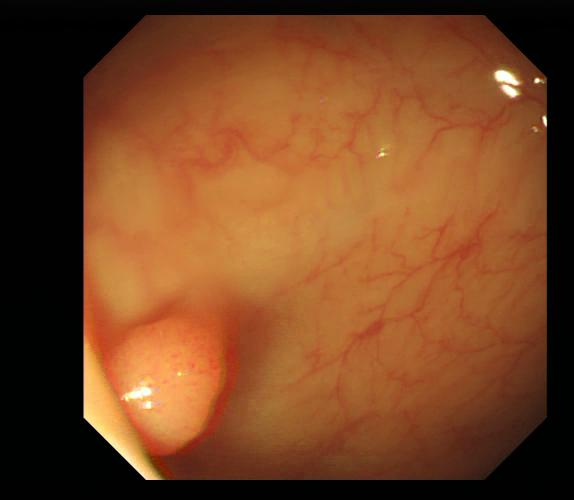polyp: (101, 317, 235, 459)
